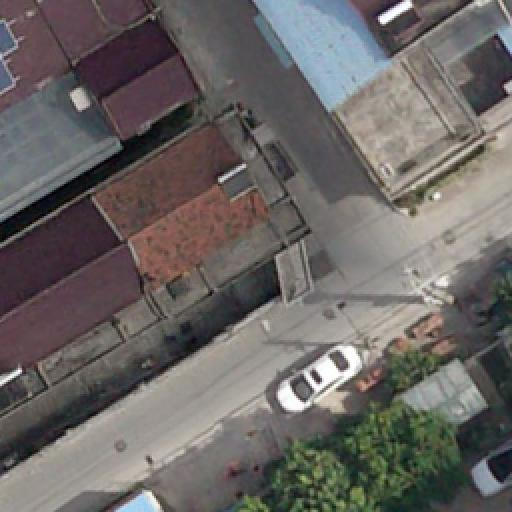solar-panel: (0, 18, 16, 94)
